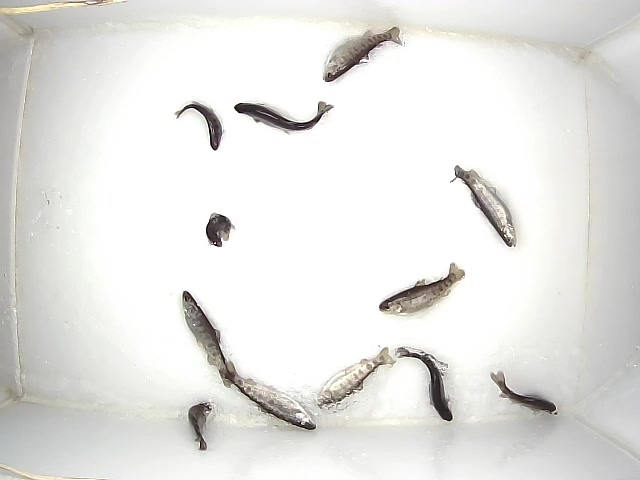fish: (218, 361, 316, 430), (182, 291, 240, 388), (450, 165, 517, 247), (318, 347, 396, 409), (379, 262, 465, 316), (394, 346, 453, 422), (323, 27, 403, 83), (234, 101, 334, 135), (490, 371, 558, 416), (174, 101, 222, 151), (188, 401, 215, 451), (206, 213, 236, 247)
